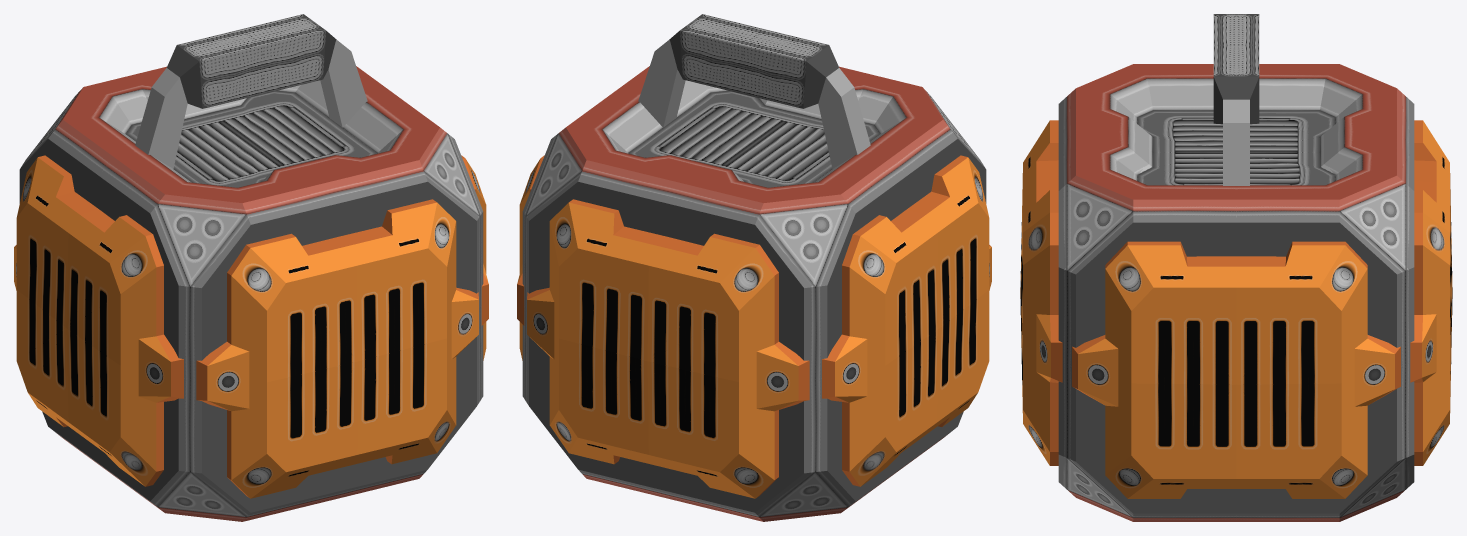
Rendered from drop-box.glb.
3 views of the same model, side by side, from view 1: azimuth 30°, elevation 25°; view 2: azimuth 150°, elevation 25°; view 3: azimuth 270°, elevation 25° (orthographic).
Visible parts, largest first — view 1: Cube; view 2: Cube; view 3: Cube.
Part boxes in pixels (x1,y1,x2,y2): Cube: (14, 14, 488, 521); Cube: (517, 14, 991, 521); Cube: (1020, 14, 1452, 521).
Size of the model in its own units: 12.46 by 13 by 12.46.
1 material, 1 textured.
